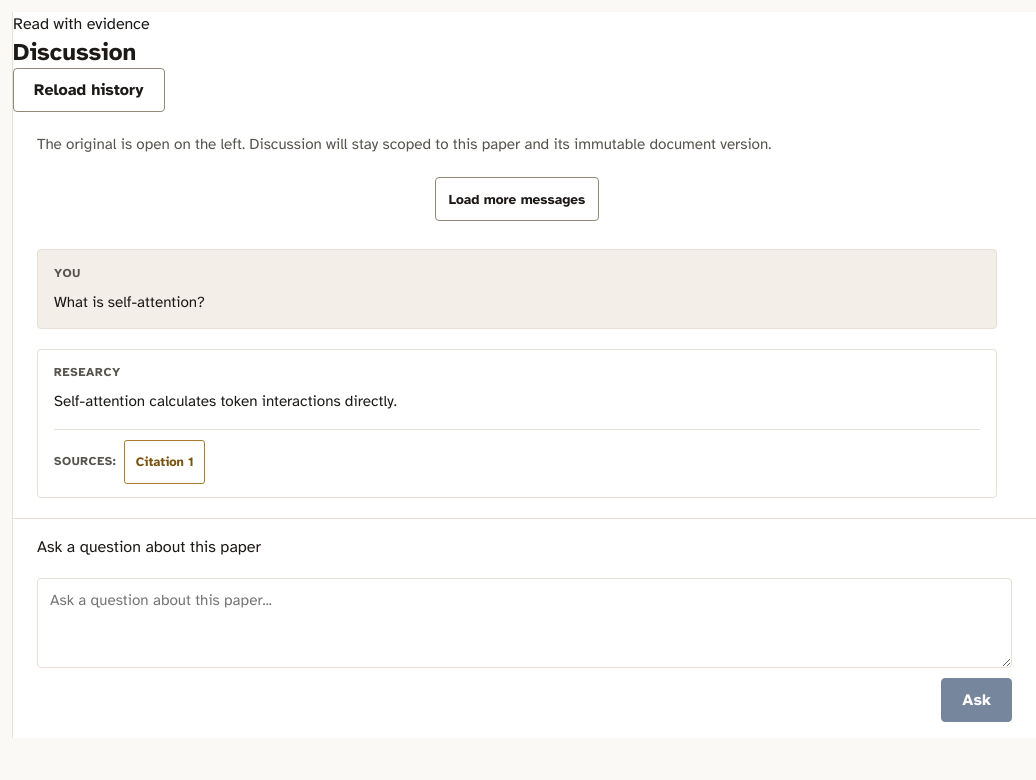
Scenario: Discussion Component Interaction Tests › persisted pagination/reload: loads existing conversation messages and supports pagination with next_after
This screenshot has width=1036, height=780.
Expected: the text "What is self-attention?" is shown, x1=54 y1=293 x2=205 y2=311
Expected: the text "Self-attention calculates token interactions directly." is shown, x1=54 y1=392 x2=397 y2=410
What coordinates should you click on to do the following:
click the button "Load more messages"
I would click on:
 (517, 200)
Its box is x1=435 y1=178 x2=599 y2=222.
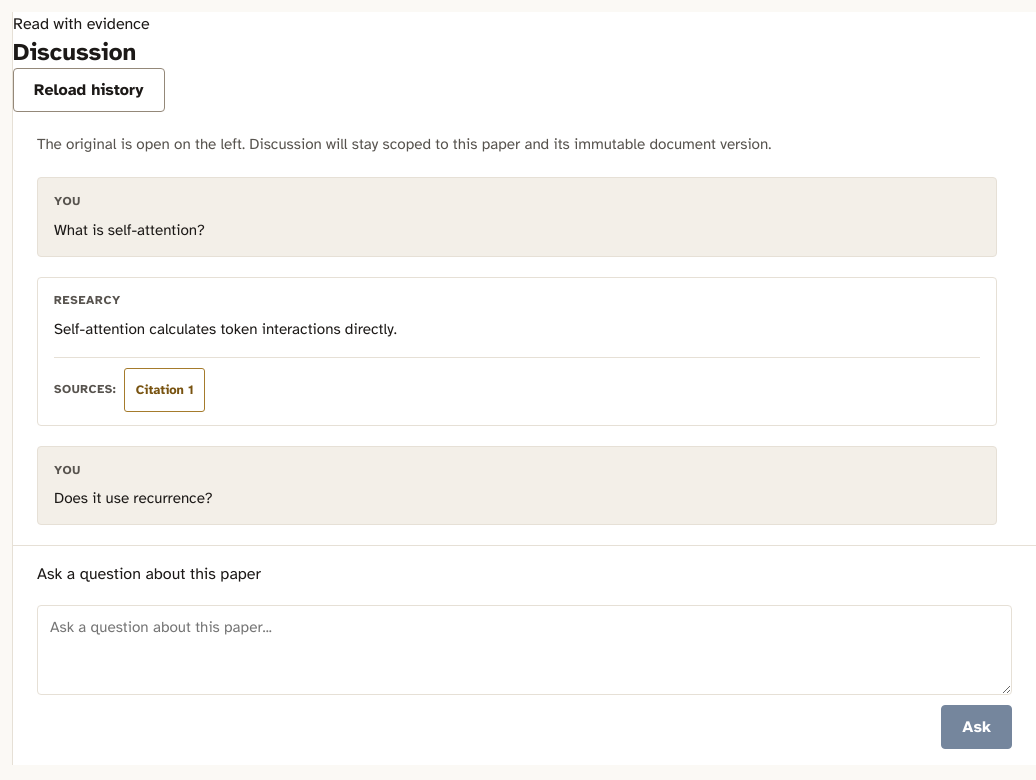
Result: the text "Does it use recurrence?" is shown at x1=54 y1=489 x2=213 y2=507
